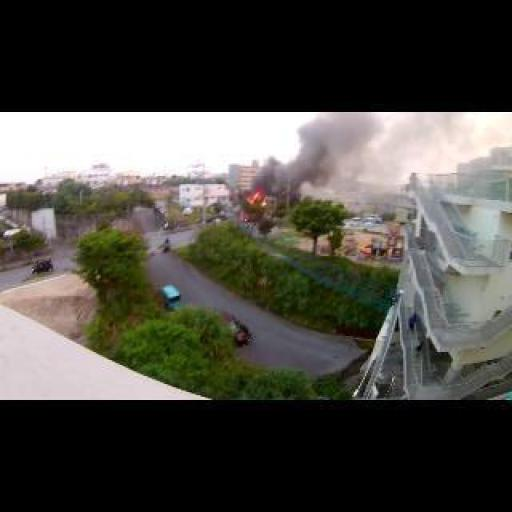smoke: (302, 112, 400, 164), (250, 147, 360, 193), (248, 192, 266, 205)
